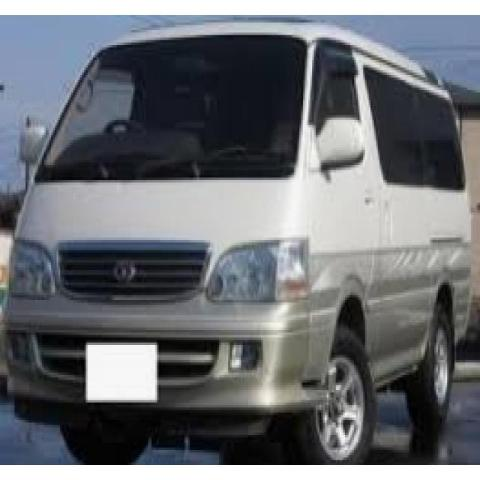van: (0, 25, 472, 463)
